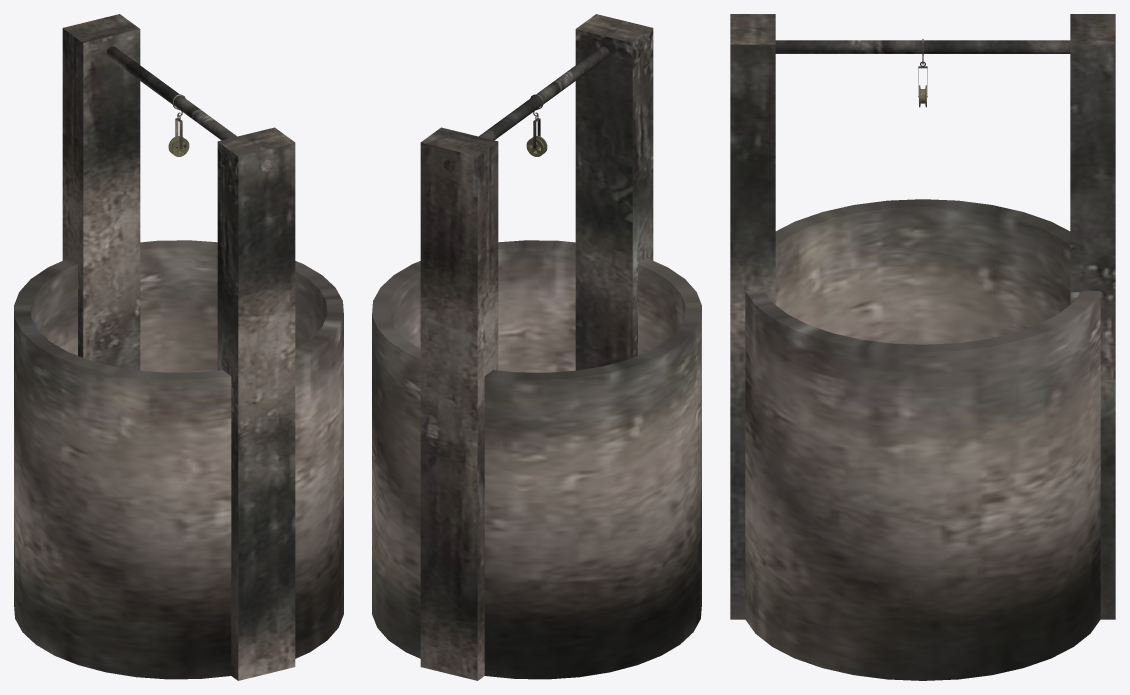
Rendered from well.glb.
3 renders of one model, left to right at view 1: azimuth 30°, elevation 25°; view 2: azimuth 150°, elevation 25°; view 3: azimuth 270°, elevation 25°, orthographic. The views are drawn at different scales.
Parts seen in each view (by area): view 1: Cylinder_Cylinder_Material.001.1; view 2: Cylinder_Cylinder_Material.001.1; view 3: Cylinder_Cylinder_Material.001.1.
Boxes of the visible parts, x1,y1,x2,y2 form: Cylinder_Cylinder_Material.001.1: [14, 14, 343, 680]; Cylinder_Cylinder_Material.001.1: [372, 14, 701, 680]; Cylinder_Cylinder_Material.001.1: [730, 14, 1115, 680].
Bounding box in the file's own units: 200 × 350 × 213.
2 materials, 2 textured.
